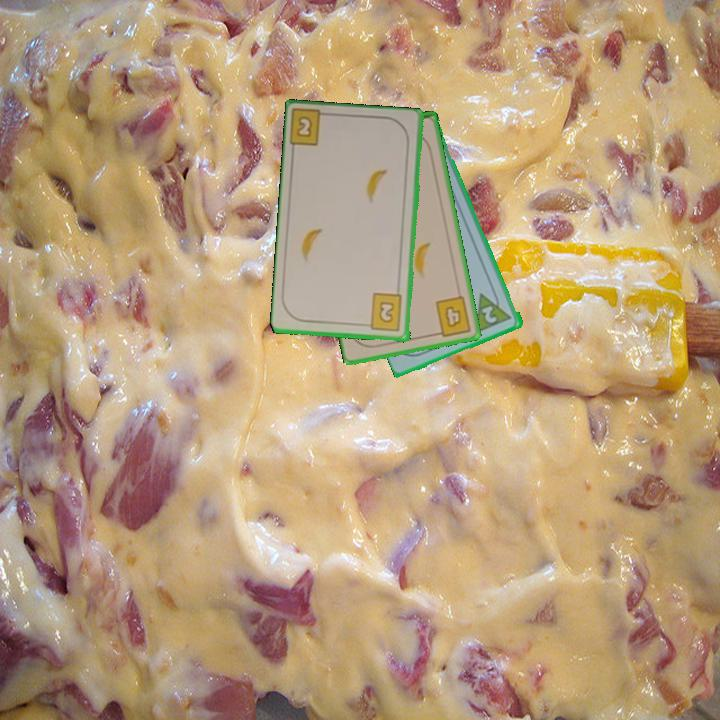2b: (361, 290, 405, 334), (288, 108, 335, 149)
2p: (472, 285, 515, 336)
4b: (431, 293, 474, 339)
